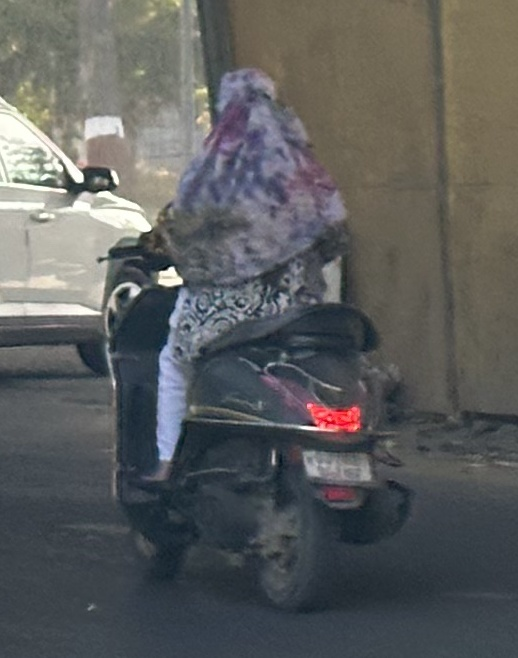BikeWithRider: (87, 59, 428, 617)
NoHelmet: (201, 61, 294, 142)
